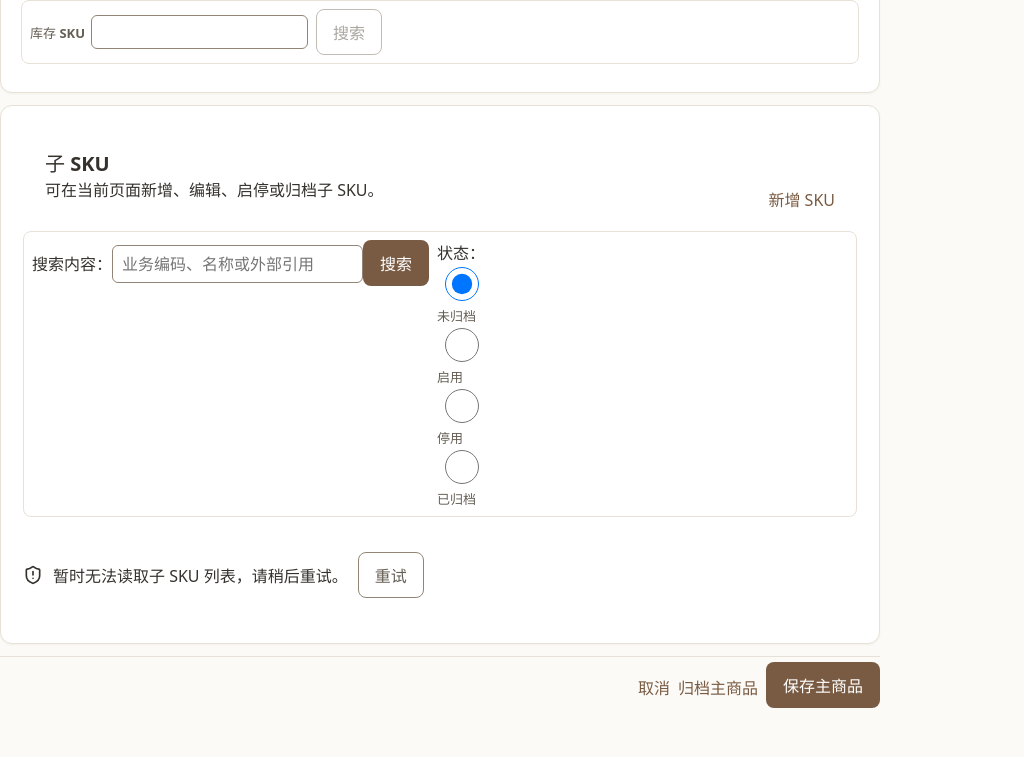
Scenario: ProductMasterDataPage › retries child-list failures without exposing server details
(page scrolled)
Click the button "重试". click: (391,575)
box: [358,552,424,598]
(page scrolled)
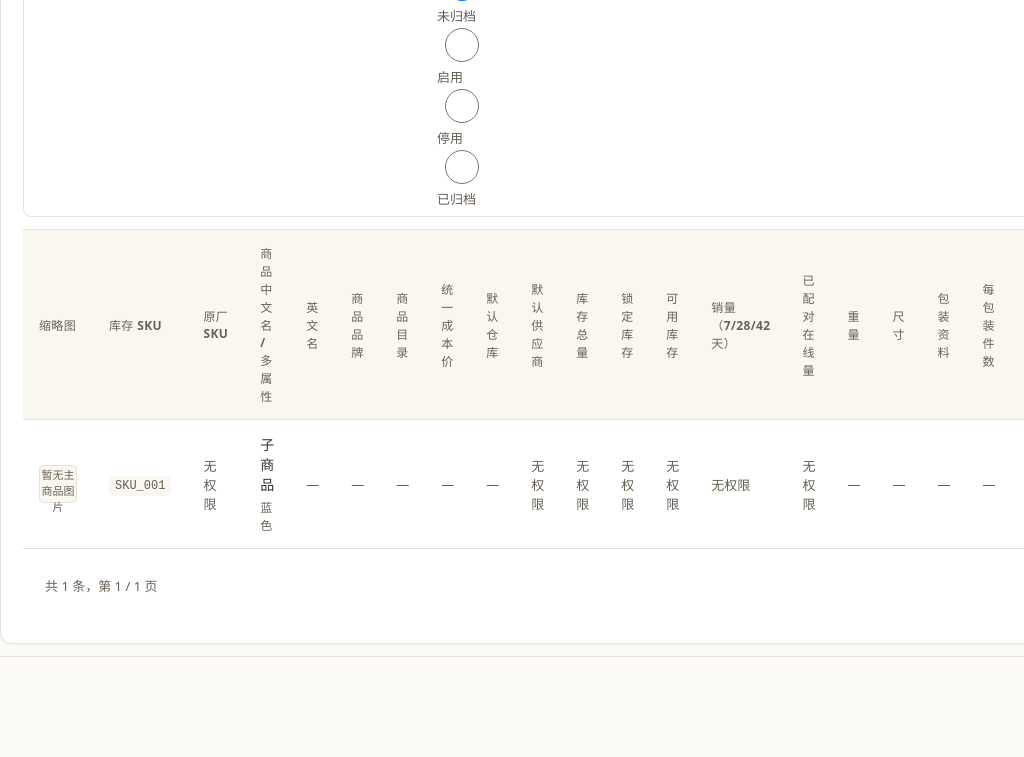
Result: the text "SKU_001" is shown at [109,476,171,496]
